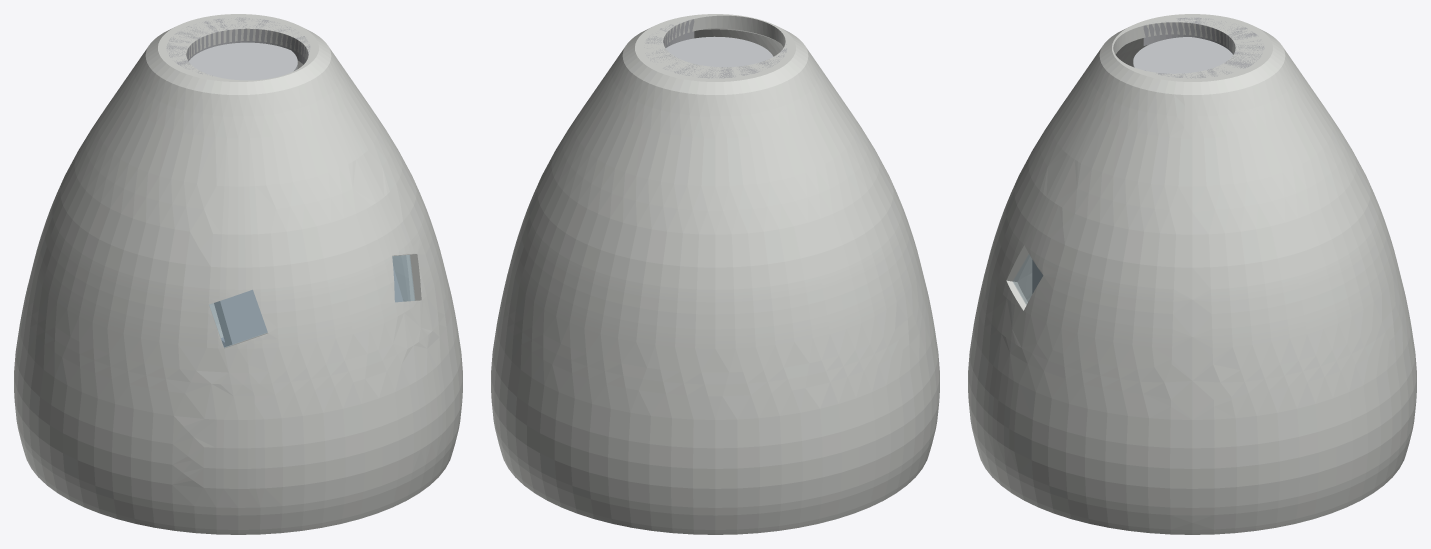
Rendered from cmd04_soyuz_descent_interior.glb.
3 views of the same model, side by side, from view 1: azimuth 30°, elevation 25°; view 2: azimuth 150°, elevation 25°; view 3: azimuth 270°, elevation 25° (orthographic).
Parts seen in each view (by area): view 1: pressure_vessel, hatch_door_1, window_glass_inner, hatch_tunnel_1, main_panel; view 2: pressure_vessel, hatch_door_1, hatch_tunnel_1; view 3: pressure_vessel, hatch_door_1, hatch_tunnel_1, window_glass_inner.
Part boxes in pixels (x1,y1,x2,y2): pressure_vessel: (14,14,462,534); hatch_door_1: (189,42,297,80); window_glass_inner: (209,255,414,347); hatch_tunnel_1: (166,17,310,76); main_panel: (214,267,402,346); pressure_vessel: (491,14,939,534); hatch_door_1: (666,36,773,67); hatch_tunnel_1: (644,19,786,78); pressure_vessel: (968,14,1416,534); hatch_door_1: (1133,37,1232,73); hatch_tunnel_1: (1143,17,1264,78); window_glass_inner: (1012,254,1042,304).
Size of the model in its own units: 2.5 by 2.43 by 2.5.
